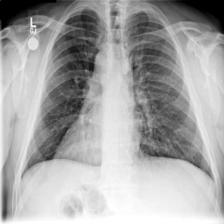normal: (19, 6, 217, 190)
